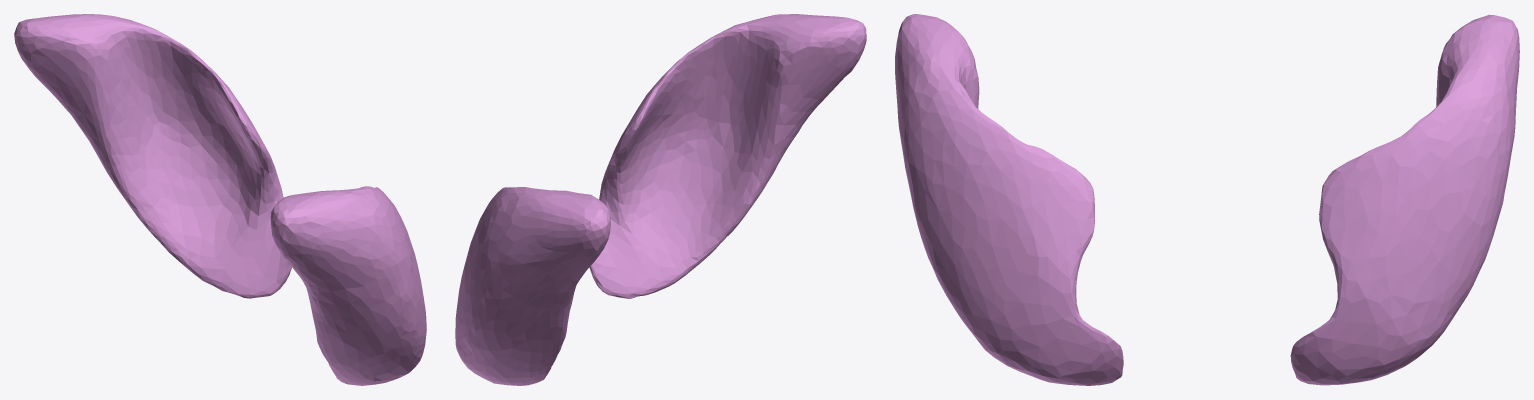
3 views of the same model, side by side, from view 1: azimuth 30°, elevation 25°; view 2: azimuth 150°, elevation 25°; view 3: azimuth 270°, elevation 25° (orthographic). The views are drawn at different scales.
Visible parts, largest first — view 1: 828.obj; view 2: 828.obj; view 3: 828.obj.
Part boxes in pixels (bbox=[...]): 828.obj: bbox=[14, 14, 426, 385]; 828.obj: bbox=[455, 14, 866, 385]; 828.obj: bbox=[895, 14, 1519, 385].
Size of the model in its own units: 1794 by 2191 by 4348.
